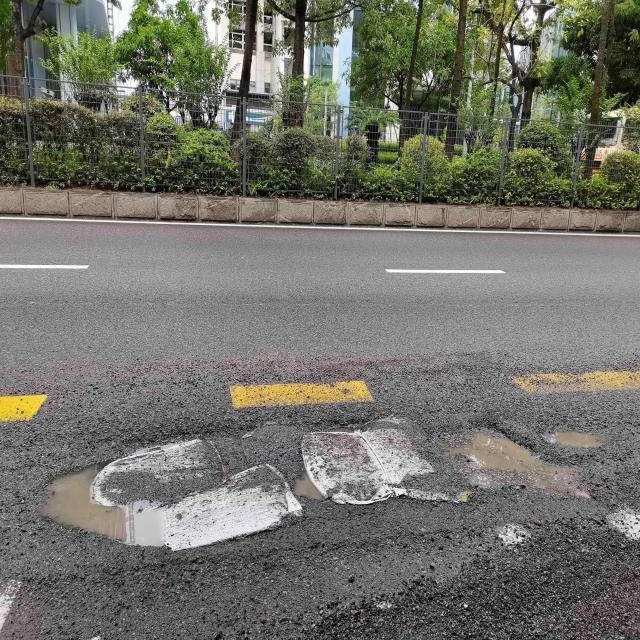Pothole: (22, 422, 302, 567), (440, 409, 608, 512), (544, 421, 603, 454)
